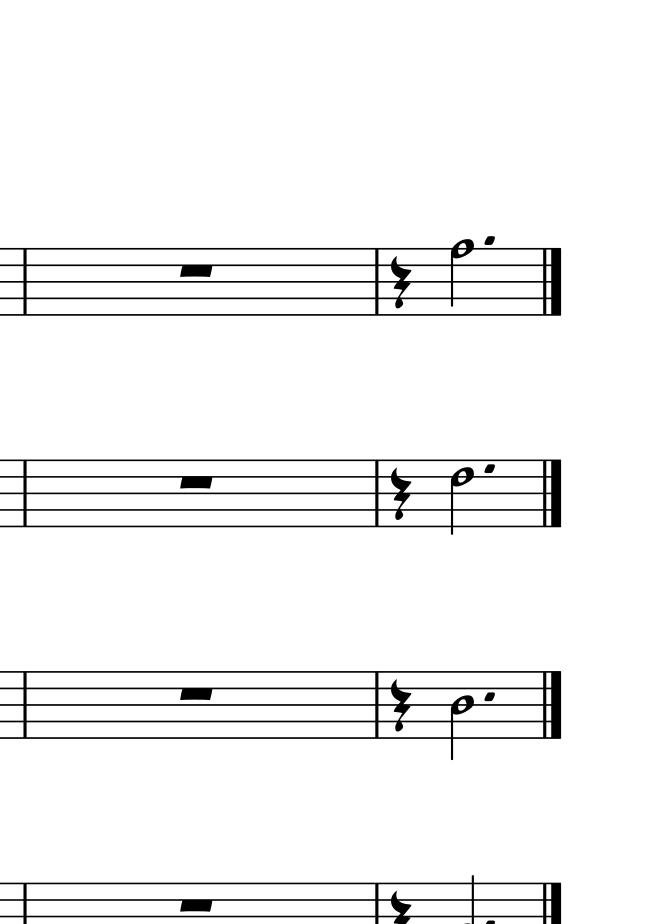2_4: (448, 668, 477, 761)
2_6: (449, 458, 475, 537)
2_8: (449, 238, 474, 318)
Final_barline: (538, 247, 565, 315), (540, 457, 565, 530), (540, 670, 565, 741)
Rests1: (177, 469, 217, 492), (175, 680, 217, 701), (175, 897, 221, 915), (177, 259, 214, 281)
Rests4: (390, 679, 412, 735), (390, 255, 412, 309), (390, 468, 412, 522)
Single_barline: (368, 672, 387, 740), (368, 247, 385, 315), (16, 672, 33, 739), (17, 248, 33, 316), (368, 460, 385, 524), (17, 460, 32, 525)
